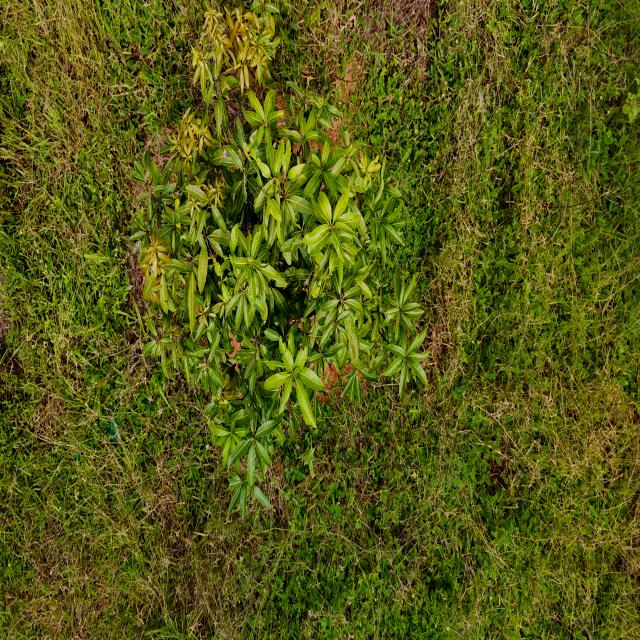mangoTree: (128, 0, 432, 524)
